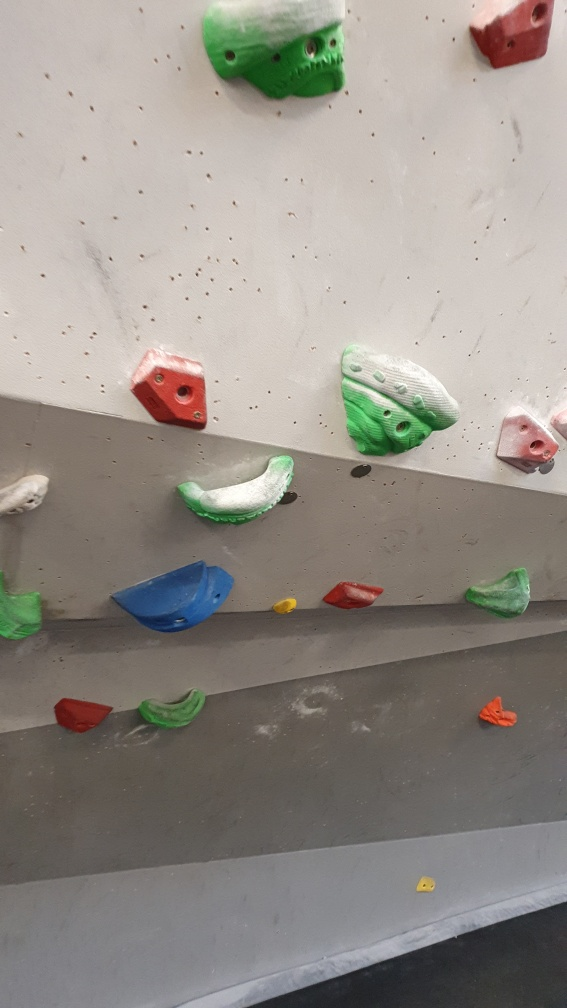Crimp: (131, 342, 208, 434), (467, 1, 560, 69), (489, 405, 562, 475), (320, 577, 387, 617)
Hand Start: (537, 455, 562, 484), (277, 484, 301, 512), (349, 459, 374, 484)
Jug: (195, 1, 353, 104), (338, 342, 465, 455), (169, 445, 301, 531), (462, 566, 543, 622), (138, 680, 213, 730), (1, 570, 50, 646), (1, 466, 52, 528)
Pinch: (109, 560, 237, 638)
